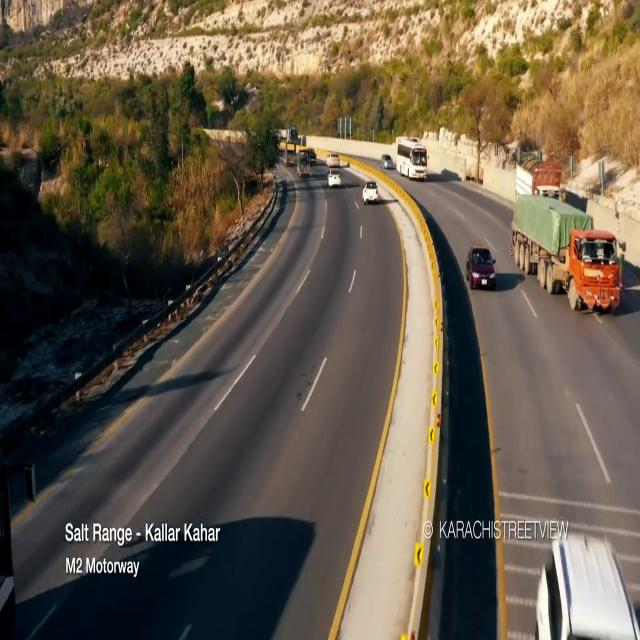car: (467, 247, 496, 290), (364, 182, 379, 205)
truck: (506, 185, 635, 339)
